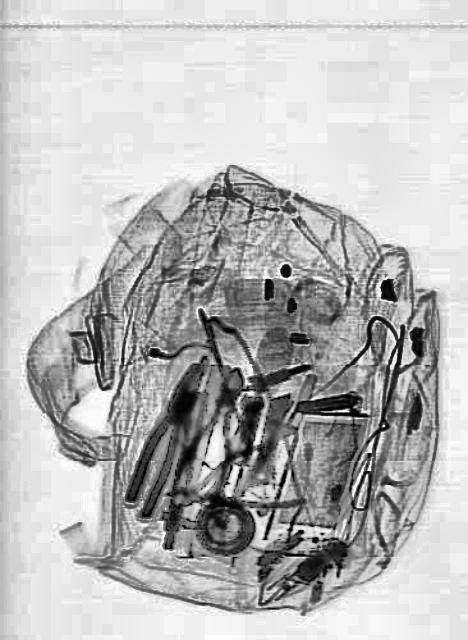Pliers: (159, 422, 309, 538), (119, 352, 213, 520)
